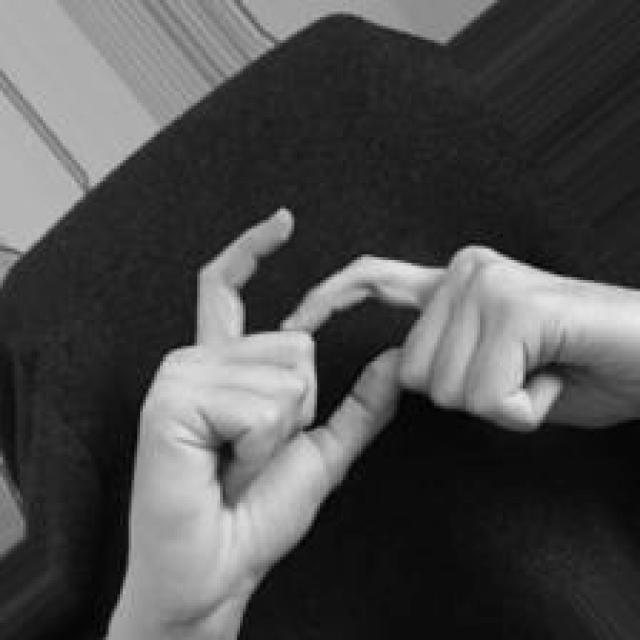G: (103, 203, 640, 640)
